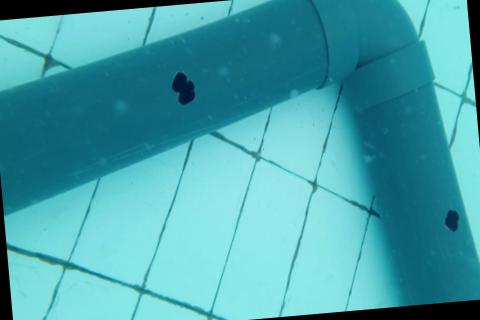kebocoran: (170, 68, 198, 108), (442, 209, 461, 234)
